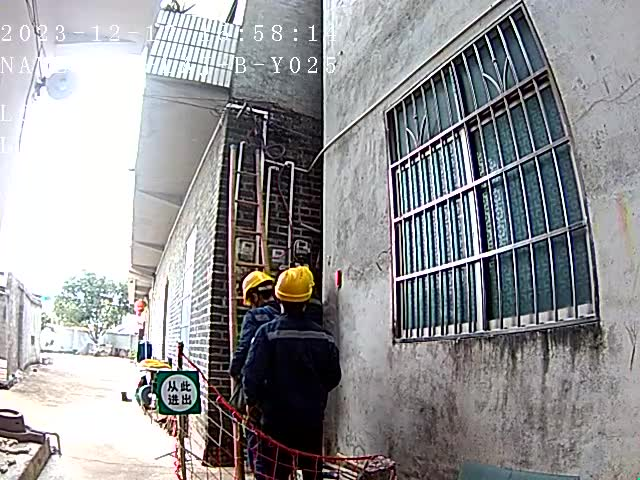halt: (277, 268, 318, 317), (244, 273, 280, 313)
